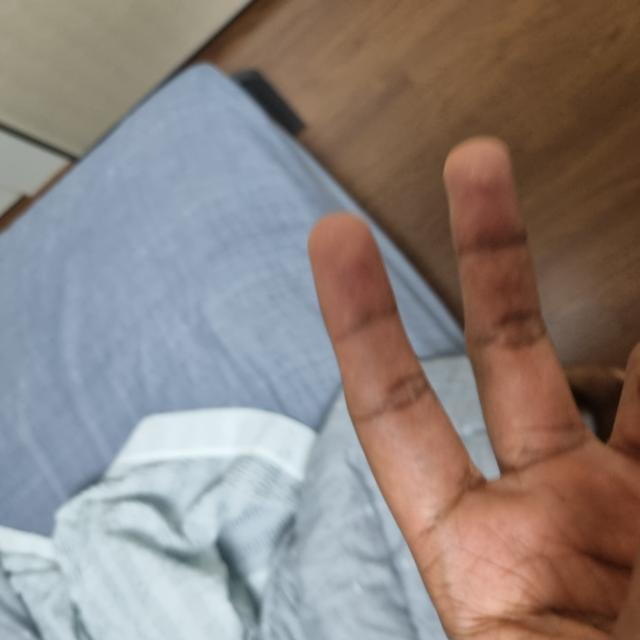Scissors: (0, 316, 498, 639)
